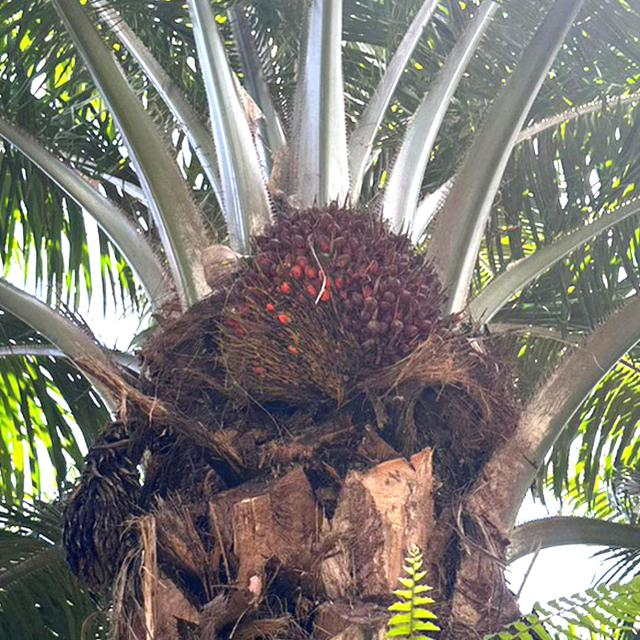ripe: (218, 195, 452, 396)
